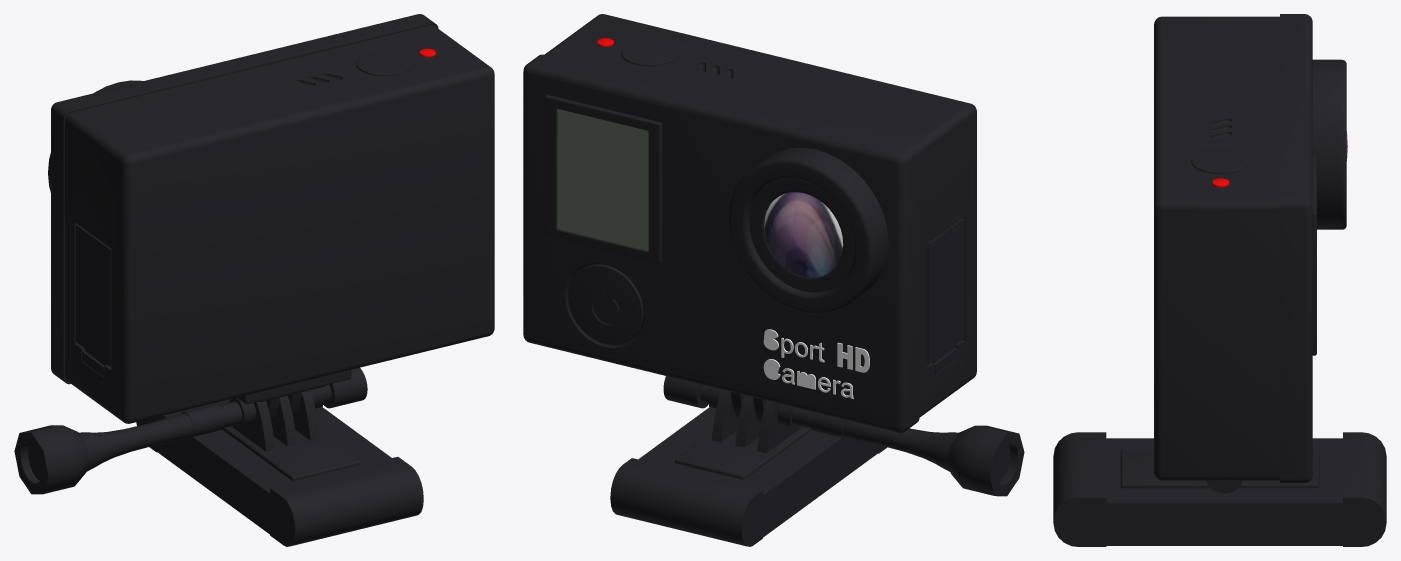
Rendered from Sport Camera fbx.fbx.
The picture shows the model from 3 angles, left to right: view 1: azimuth 30°, elevation 25°; view 2: azimuth 150°, elevation 25°; view 3: azimuth 270°, elevation 25°; orthographic projection. The views are drawn at different scales.
Parts seen in each view (by area): view 1: Camara, Base, P2, P1; view 2: Camara, Base, Pantalla, P2, Lente, Sport_Camera_HD; view 3: Camara, Base.
Boxes of the visible parts, x1,y1,x2,y2 form: Camara: [48, 14, 494, 423]; Base: [136, 390, 423, 546]; P2: [14, 367, 367, 494]; P1: [237, 370, 351, 423]; Camara: [523, 14, 976, 432]; Base: [610, 389, 886, 546]; Pantalla: [557, 109, 648, 250]; P2: [663, 376, 1024, 496]; Lente: [764, 192, 843, 277]; Sport_Camera_HD: [763, 329, 869, 398]; Camara: [1154, 14, 1346, 482]; Base: [1053, 432, 1386, 546].
Size of the model in its own units: 247 by 213 by 158.
5 materials, 1 textured.
